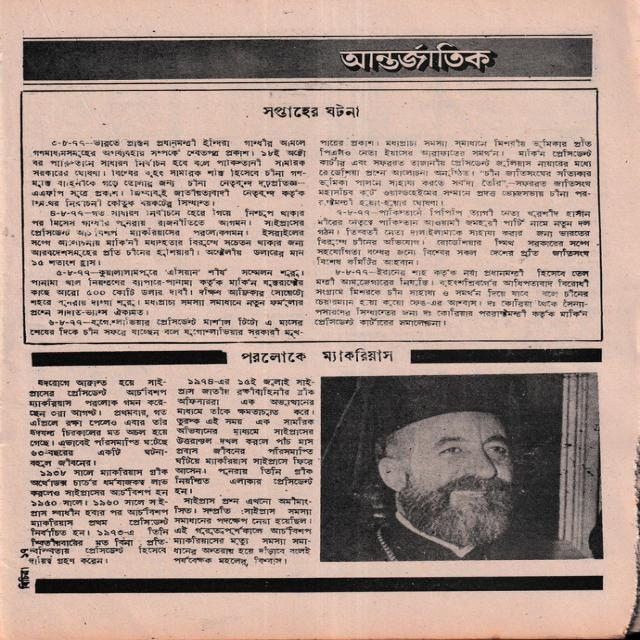image: (318, 370, 606, 563)
page number: (18, 548, 29, 559)
paragraph: (30, 135, 308, 208), (317, 137, 594, 208), (173, 376, 316, 496), (312, 267, 591, 328), (29, 208, 306, 268), (316, 207, 593, 266), (29, 265, 306, 317), (27, 466, 170, 566), (27, 376, 170, 468), (171, 495, 314, 568), (28, 317, 305, 338)
text: (16, 566, 30, 590)
title: (338, 40, 500, 74), (238, 346, 395, 365), (260, 101, 362, 121)
